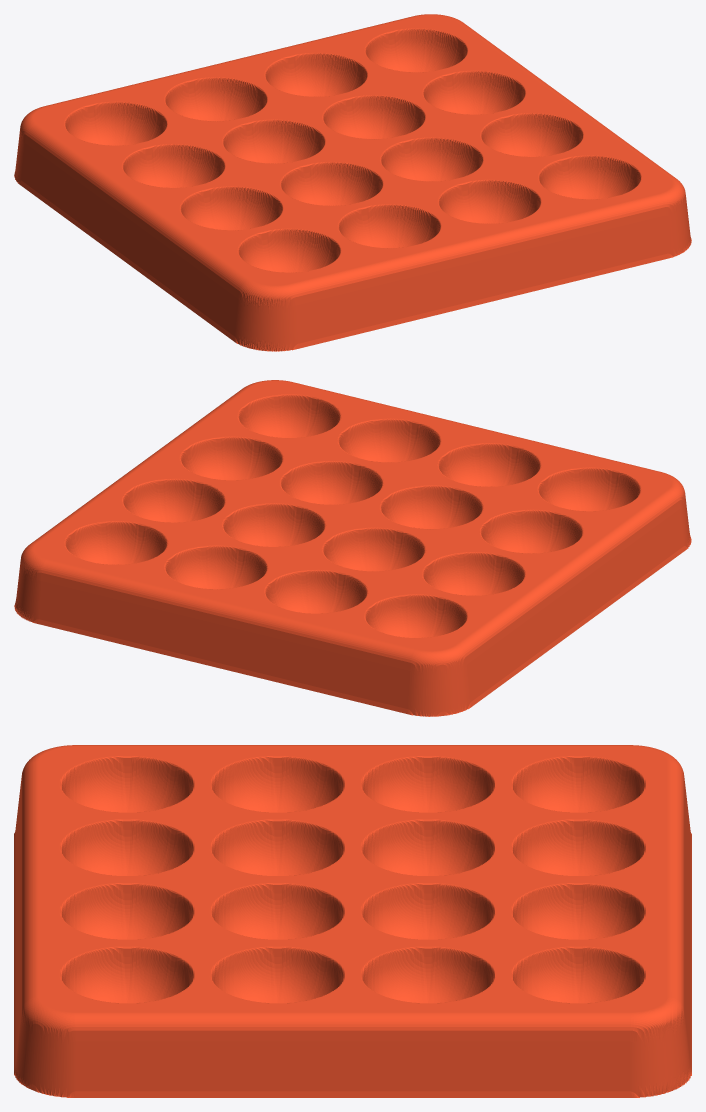
Rendered from mold.glb.
3 renders of one model, top to bottom at view 1: azimuth 30°, elevation 25°; view 2: azimuth 150°, elevation 25°; view 3: azimuth 270°, elevation 25°, orthographic. The views are drawn at different scales.
Visible parts, largest first — view 1: geometry_0; view 2: geometry_0; view 3: geometry_0.
Part boxes in pixels (x1,y1,x2,y2): geometry_0: (14, 14, 691, 351); geometry_0: (14, 380, 691, 716); geometry_0: (14, 745, 691, 1097).
Size of the model in its own units: 0.0992 by 0.0121 by 0.0992.
